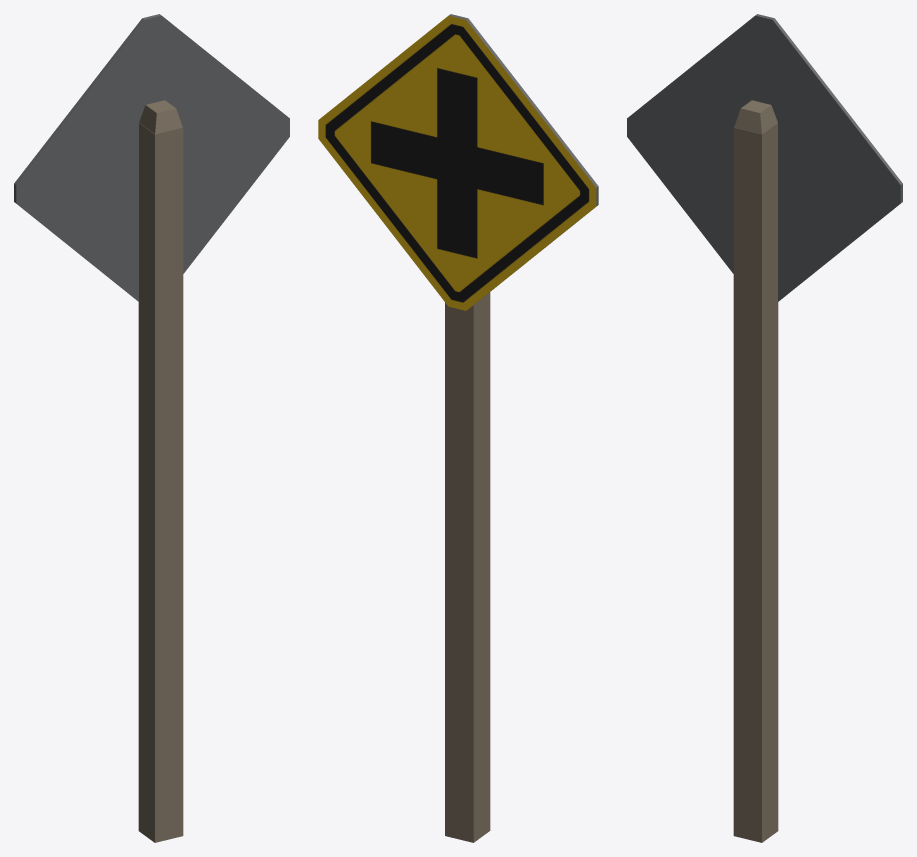
The model's file is sign-cross.glb.
3 views of the same model, side by side, from view 1: azimuth 30°, elevation 25°; view 2: azimuth 150°, elevation 25°; view 3: azimuth 330°, elevation 25° (orthographic).
Parts seen in each view (by area): view 1: sign-cross; view 2: sign-cross; view 3: sign-cross.
Part boxes in pixels (x1,y1,x2,y2): sign-cross: (14,14,289,842); sign-cross: (318,14,598,842); sign-cross: (627,14,902,842).
Size of the model in its own units: 0.8592 by 2.43 by 0.099.
Materials: 3 (1 with a texture image).
